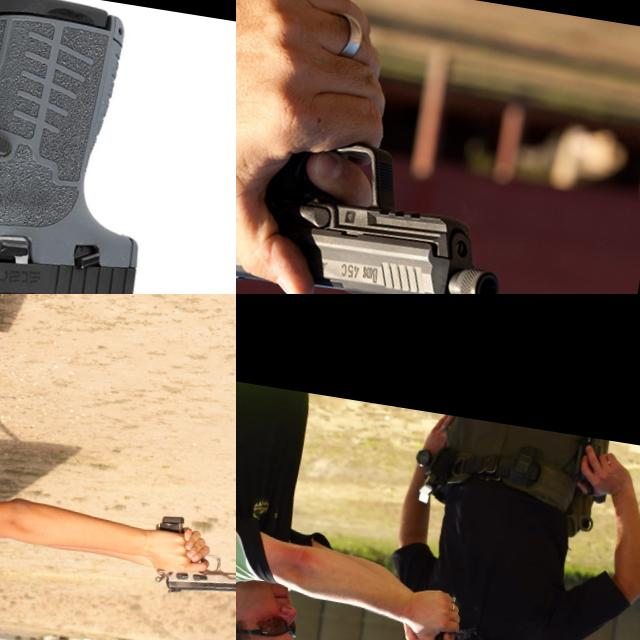handgun: (0, 0, 236, 294), (236, 116, 524, 294), (150, 543, 236, 610), (401, 621, 504, 640)
